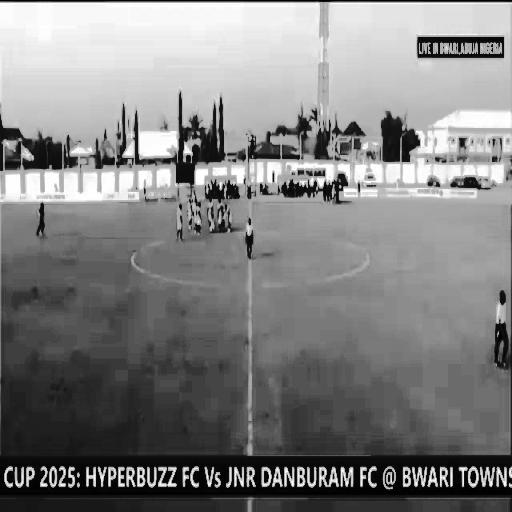keeper1: (32, 196, 47, 247)
referee: (487, 283, 512, 374), (246, 216, 254, 264)
